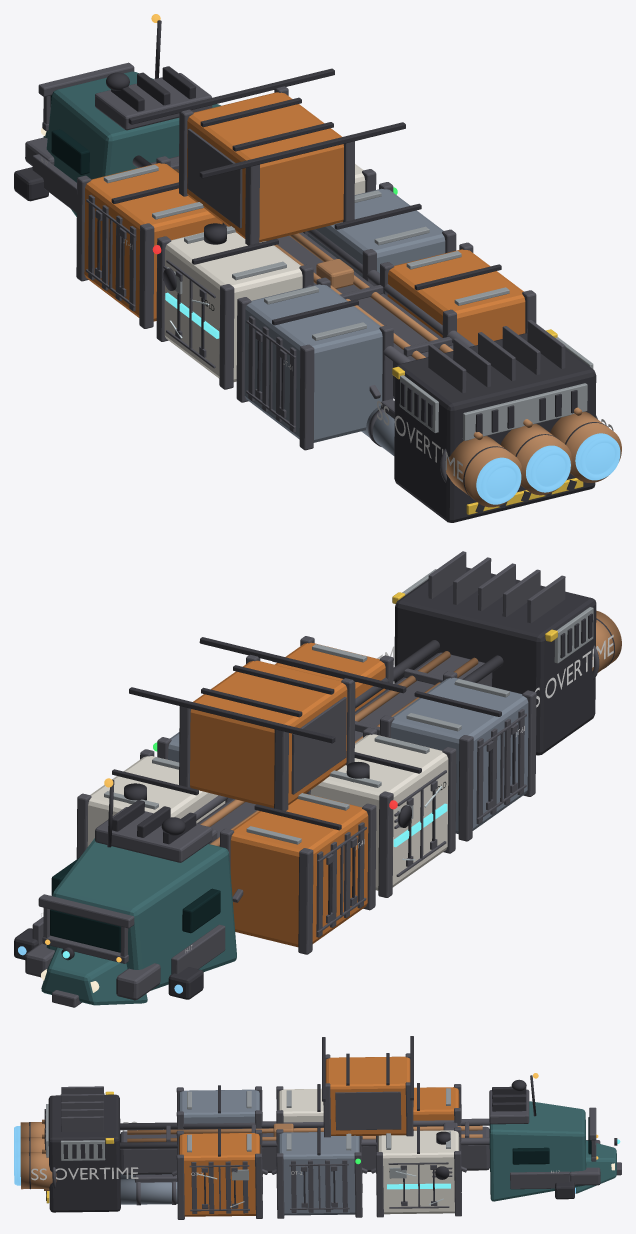
Rendered from ss-overtime.glb.
The picture shows the model from 3 angles, top to bottom: view 1: azimuth 30°, elevation 25°; view 2: azimuth 150°, elevation 25°; view 3: azimuth 270°, elevation 25°; orthographic projection. The views are drawn at different scales.
Parts seen in each view (by area): view 1: Merged_Graphite, Merged_FreightOrange, Merged_EngineIron, Merged_CargoSlate, Merged_ReeferBone, Merged_PipeCopper, Merged_PatchSteel, Merged_HullTeal, Merged_EngineGlow, Merged_CabWindow, ThrusterR, ThrusterC (+3 smaller); view 2: Merged_Graphite, Merged_EngineIron, Merged_FreightOrange, Merged_HullTeal, Merged_ReeferBone, Merged_CargoSlate, Merged_PatchSteel, Merged_CabWindow, Merged_PipeCopper, Merged_NameWhite; view 3: Merged_Graphite, Merged_EngineIron, Merged_FreightOrange, Merged_CargoSlate, Merged_HullTeal, Merged_ReeferBone, Merged_PipeCopper, Merged_PatchSteel, Merged_CabWindow, Merged_NameWhite, Merged_ReeferGlow.
Part boxes in pixels (box(x1,y1,x2,y2)): Merged_Graphite: box(25, 62, 597, 482); Merged_FreightOrange: box(84, 92, 525, 345); Merged_EngineIron: box(14, 20, 608, 522); Merged_CargoSlate: box(244, 188, 445, 455); Merged_ReeferBone: box(164, 164, 365, 381); Merged_PipeCopper: box(174, 169, 621, 507); Merged_PatchSteel: box(103, 164, 593, 440); Merged_HullTeal: box(43, 71, 220, 217); Merged_EngineGlow: box(481, 437, 620, 503); Merged_CabWindow: box(50, 95, 89, 174); ThrusterR: box(575, 433, 620, 480); ThrusterC: box(526, 445, 570, 492); Merged_Graphite: box(25, 551, 599, 1007); Merged_EngineIron: box(14, 567, 614, 999); Merged_FreightOrange: box(190, 642, 385, 947); Merged_HullTeal: box(41, 838, 236, 1005); Merged_ReeferBone: box(87, 734, 448, 890); Merged_CargoSlate: box(168, 677, 528, 833); Merged_PatchSteel: box(104, 569, 593, 844); Merged_CabWindow: box(50, 857, 220, 952); Merged_PipeCopper: box(200, 610, 621, 846); Merged_NameWhite: box(41, 634, 613, 952); Merged_Graphite: box(52, 1053, 621, 1219); Merged_EngineIron: box(29, 1036, 617, 1212); Merged_FreightOrange: box(179, 1056, 459, 1216); Merged_CargoSlate: box(120, 1089, 359, 1215); Merged_HullTeal: box(489, 1101, 616, 1201); Merged_ReeferBone: box(278, 1088, 459, 1214); Merged_PipeCopper: box(20, 1119, 482, 1190); Merged_PatchSteel: box(46, 1088, 450, 1180); Merged_CabWindow: box(512, 1117, 591, 1164); Merged_NameWhite: box(31, 1121, 559, 1180); Merged_ReeferGlow: box(387, 1139, 620, 1189).
Size of the model in its own units: 2.46 by 1.98 by 8.55.
